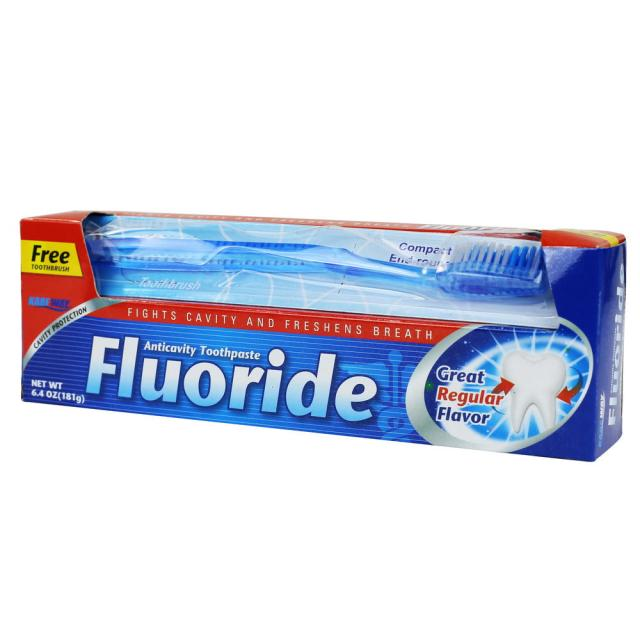toothpaste: (11, 194, 627, 464)
